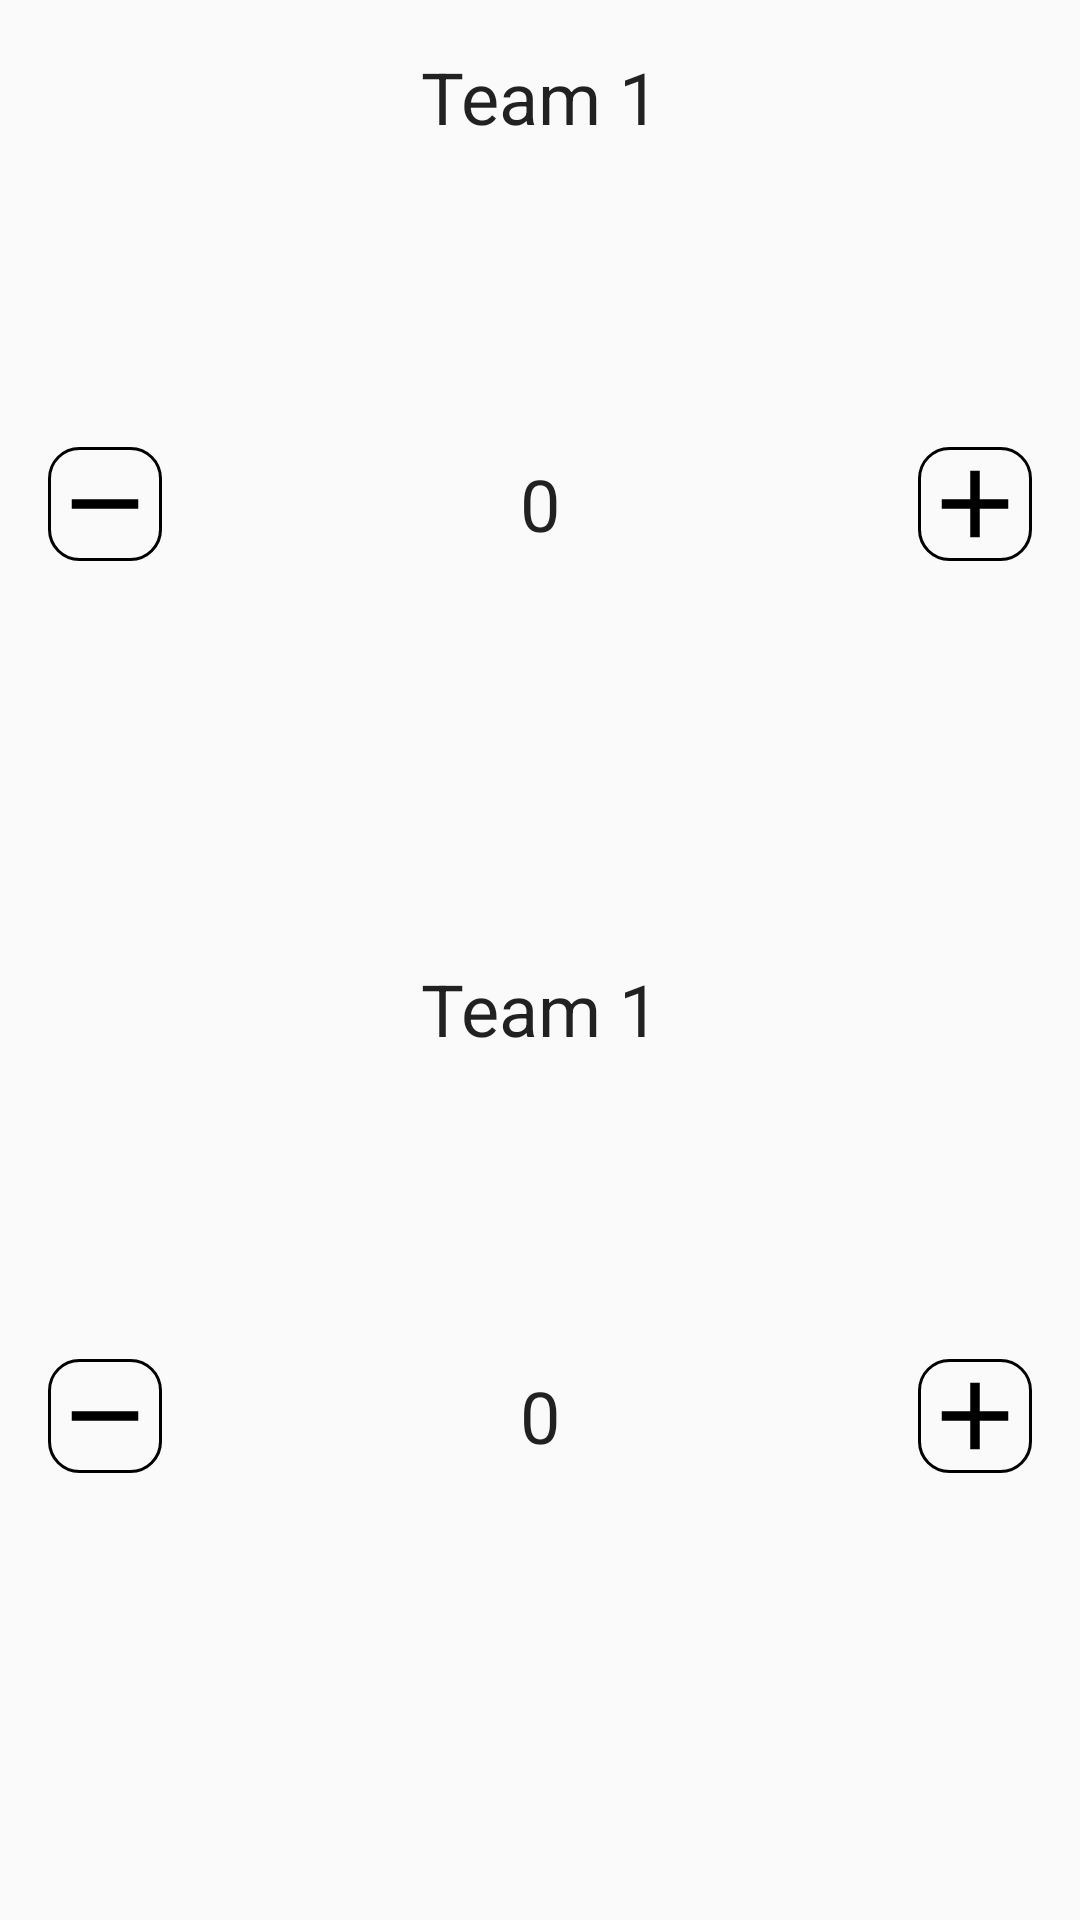

Named icons in this screenshot (1080px x 1920px) and their bounding boxes, bbox(x1, y1, x2, y2):
plus: bbox(918, 447, 1032, 561), bbox(918, 1359, 1032, 1473)
remove: bbox(48, 447, 162, 561), bbox(48, 1359, 162, 1473)
